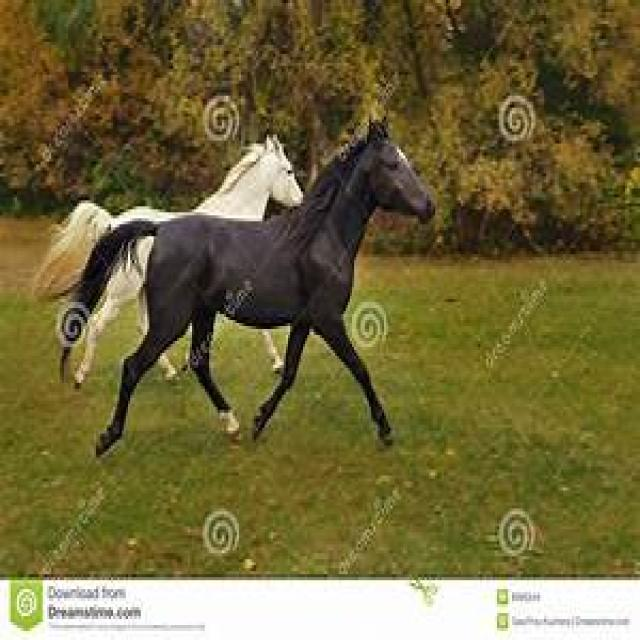horse: (43, 123, 435, 458), (32, 135, 303, 302)
